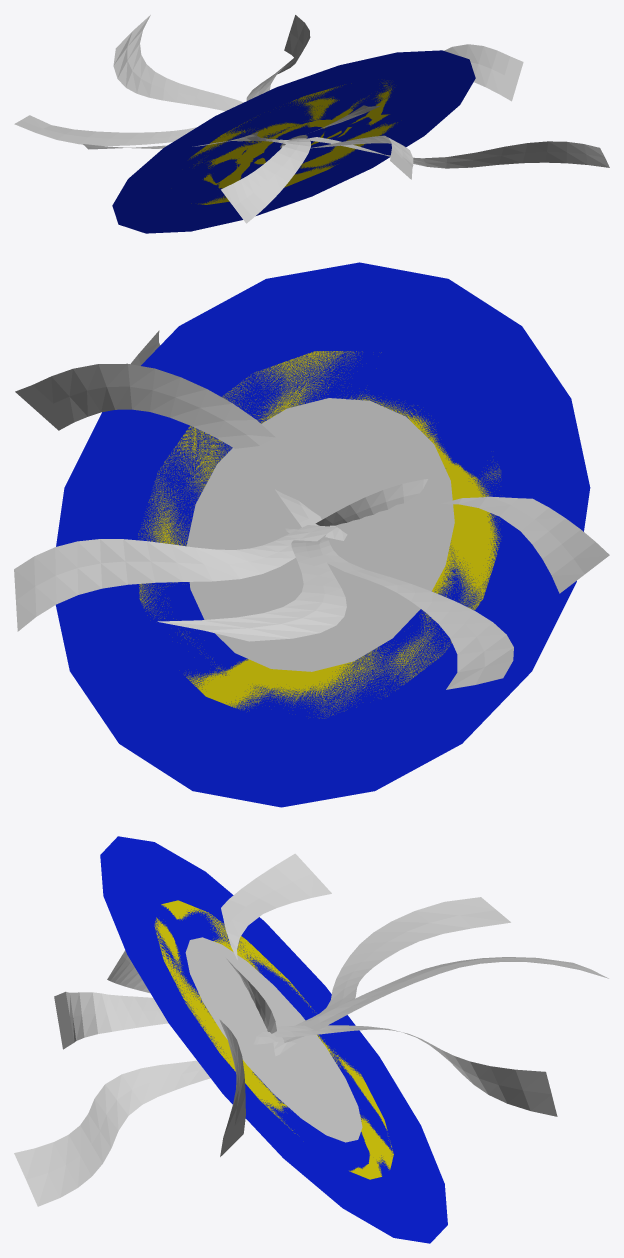
Rendered from pref_fx_evolution_self_lv3.fbx.
The picture shows the model from 3 angles, top to bottom: view 1: azimuth 30°, elevation 25°; view 2: azimuth 150°, elevation 25°; view 3: azimuth 270°, elevation 25°; orthographic projection. The views are drawn at different scales.
Parts seen in each view (by area): view 1: sm_noise, sm_trail; view 2: sm_noise, sm_trail, sm_blend; view 3: sm_noise, sm_trail, sm_blend.
Part boxes in pixels (x1,y1,x2,y2): sm_noise: [112, 50, 475, 233]; sm_trail: [14, 15, 609, 223]; sm_noise: [55, 262, 590, 807]; sm_trail: [14, 330, 609, 689]; sm_blend: [186, 398, 454, 671]; sm_noise: [100, 836, 447, 1243]; sm_trail: [14, 853, 608, 1206]; sm_blend: [185, 937, 362, 1142].
Bounding box in the file's own units: 12.65 × 7.3 × 11.49.
